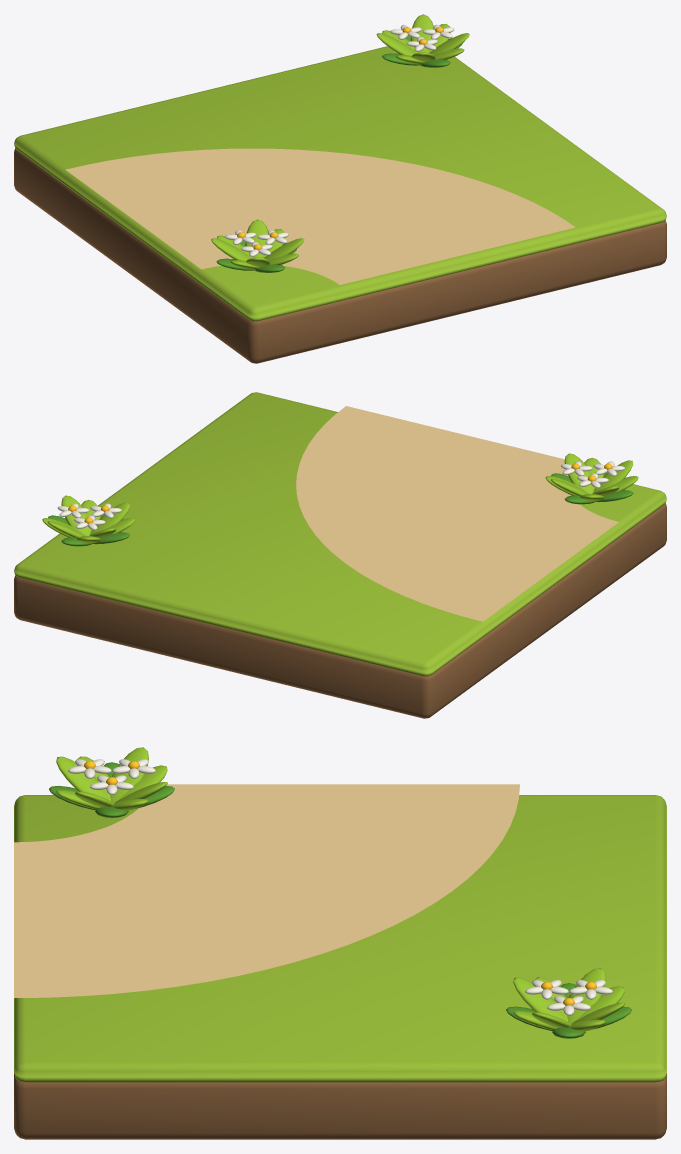
File: path_corner.glb
3 views of the same model, one above another, from view 1: azimuth 30°, elevation 25°; view 2: azimuth 150°, elevation 25°; view 3: azimuth 270°, elevation 25° (orthographic). The views are drawn at different scales.
Visible parts, largest first — view 1: path_corner; view 2: path_corner; view 3: path_corner.
Boxes of the visible parts, x1,y1,x2,y2 form: path_corner: [14, 14, 666, 363]; path_corner: [14, 392, 666, 718]; path_corner: [14, 747, 666, 1139].
Size of the model in its own units: 2 by 0.4329 by 2.
